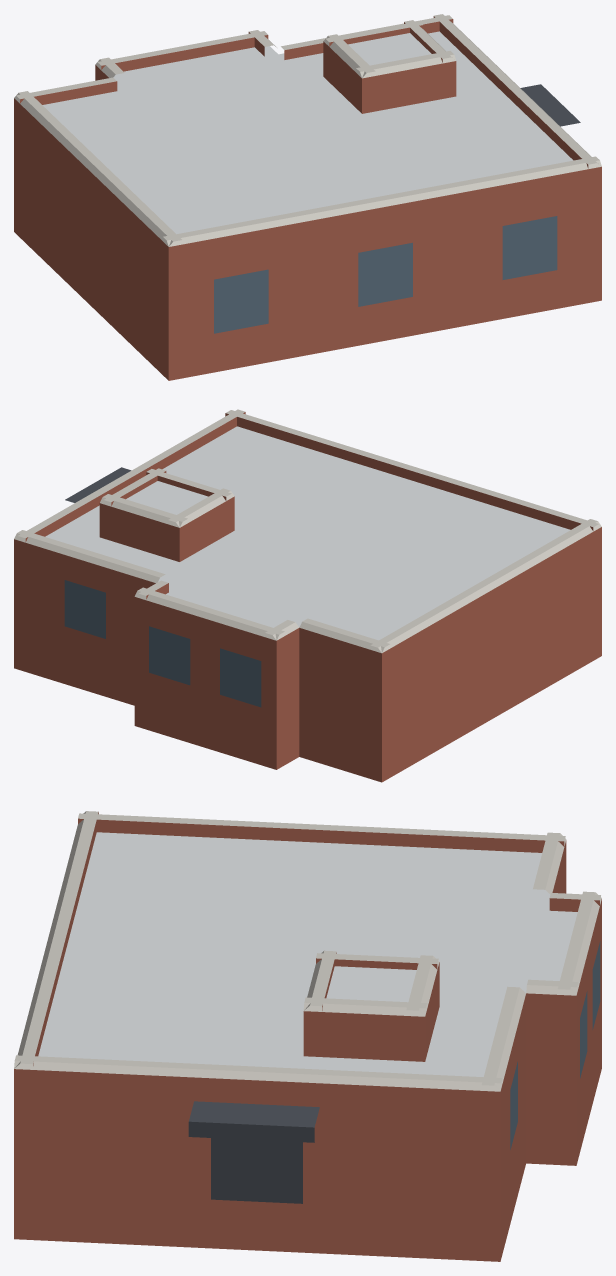
File: detail.glb
The picture shows the model from 3 angles, top to bottom: view 1: azimuth 30°, elevation 25°; view 2: azimuth 150°, elevation 25°; view 3: azimuth 270°, elevation 25°; orthographic projection. The views are drawn at different scales.
Parts seen in each view (by area): view 1: the-generals-office; view 2: the-generals-office; view 3: the-generals-office.
Boxes of the visible parts, bbox=[...] form: the-generals-office: bbox=[14, 14, 601, 380]; the-generals-office: bbox=[14, 409, 601, 782]; the-generals-office: bbox=[14, 811, 601, 1261].
Size of the model in its own units: 16.16 by 5.6 by 13.94.
